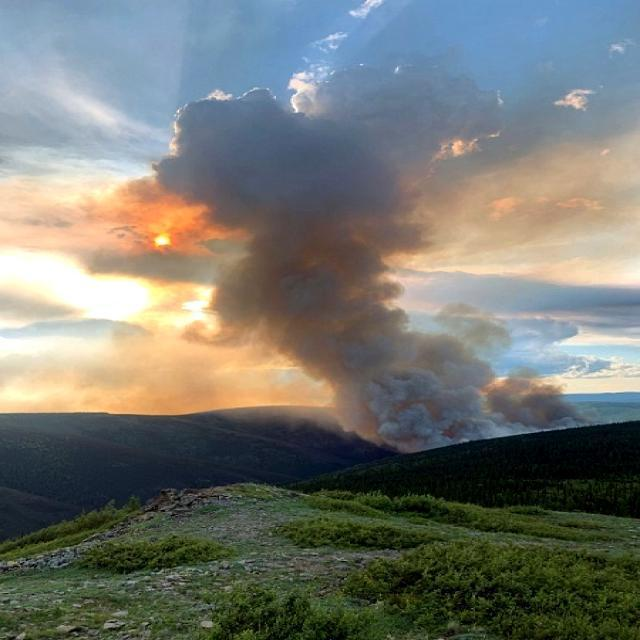Smoke: (209, 53, 542, 448)
